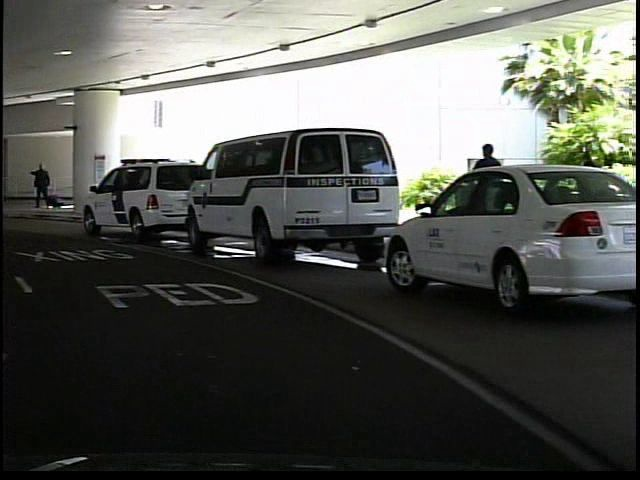person: (465, 140, 502, 255), (27, 157, 54, 216)
